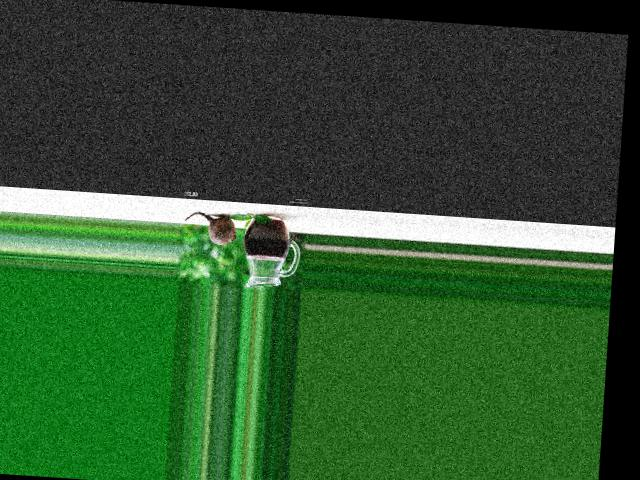beet: (184, 210, 237, 245)
